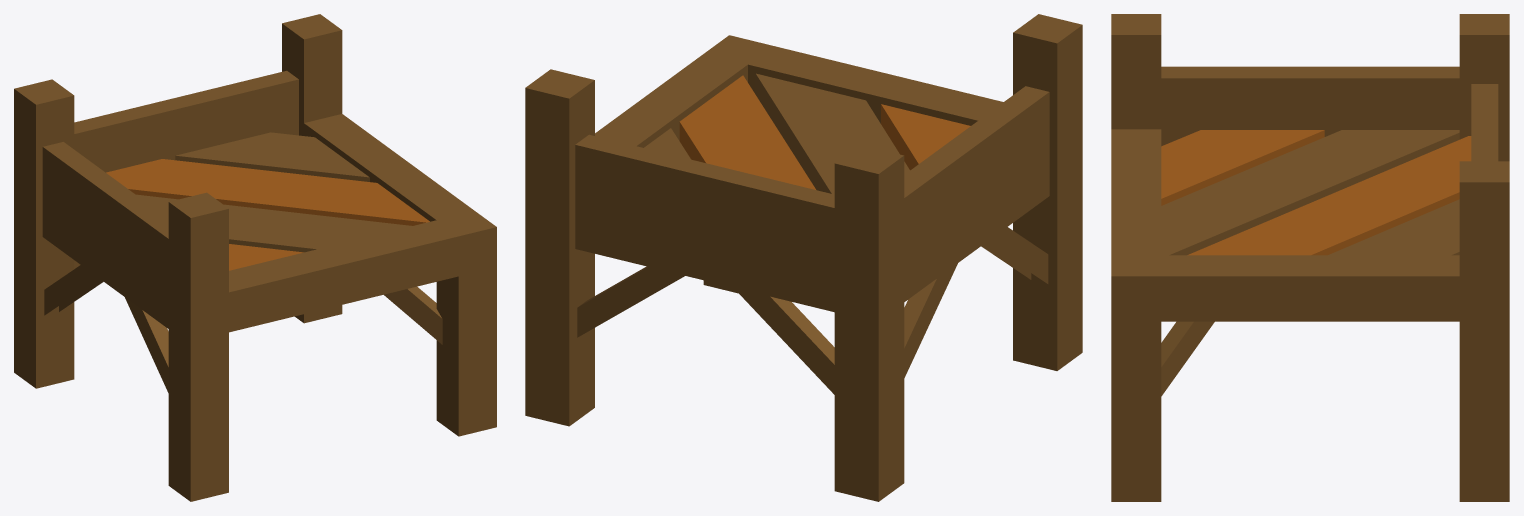
File: ElbowFilled5.fbx
The picture shows the model from 3 angles, left to right: view 1: azimuth 30°, elevation 25°; view 2: azimuth 150°, elevation 25°; view 3: azimuth 270°, elevation 25°; orthographic projection. The views are drawn at different scales.
Visible parts, largest first — view 1: Bridge - Elbow Filled.002; view 2: Bridge - Elbow Filled.002; view 3: Bridge - Elbow Filled.002.
Boxes of the visible parts, x1,y1,x2,y2 form: Bridge - Elbow Filled.002: (14, 14, 496, 501); Bridge - Elbow Filled.002: (525, 14, 1082, 501); Bridge - Elbow Filled.002: (1111, 14, 1509, 501).
Bounding box in the file's own units: 80 × 70.89 × 80.
